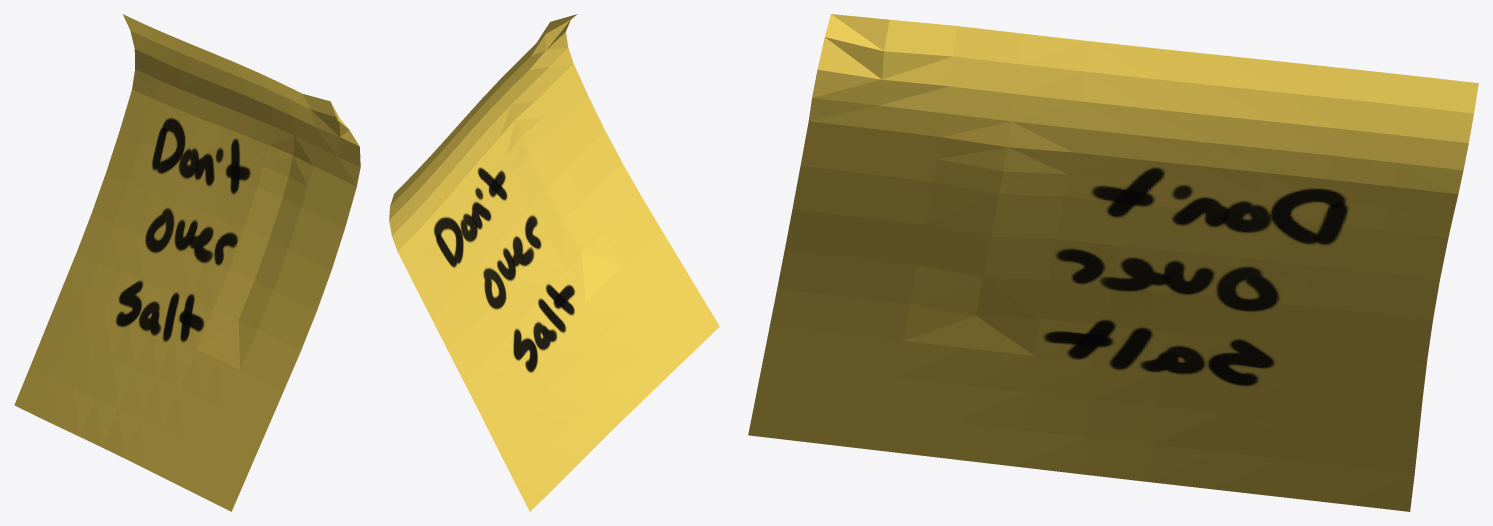
The model's file is SM_StickyNotes_04.fbx.
3 views of the same model, side by side, from view 1: azimuth 30°, elevation 25°; view 2: azimuth 150°, elevation 25°; view 3: azimuth 270°, elevation 25° (orthographic). The views are drawn at different scales.
Parts seen in each view (by area): view 1: SM_StickyNotes_04_LOD0; view 2: SM_StickyNotes_04_LOD0; view 3: SM_StickyNotes_04_LOD0.
Part boxes in pixels (box(x1,y1,x2,y2)): SM_StickyNotes_04_LOD0: box(14, 14, 360, 511); SM_StickyNotes_04_LOD0: box(389, 14, 719, 511); SM_StickyNotes_04_LOD0: box(748, 14, 1478, 511).
Bounding box in the file's own units: 4.6 × 12.33 × 11.21.
1 material, 1 textured.
